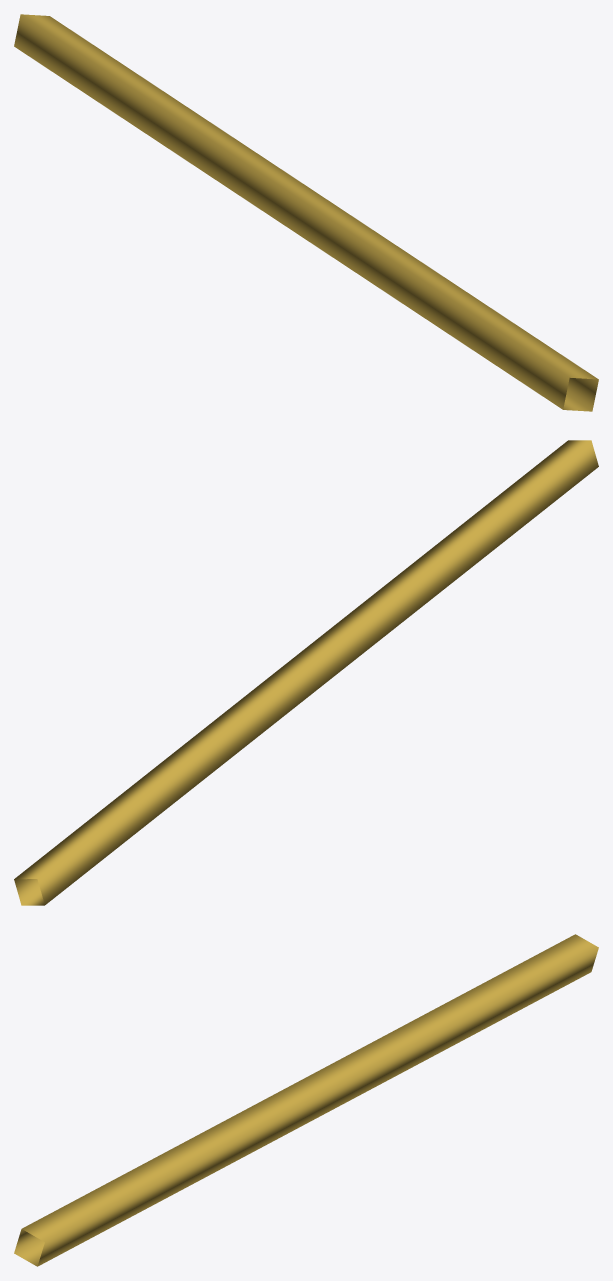
Rendered from cut stem.dae.
3 renders of one model, top to bottom at view 1: azimuth 30°, elevation 25°; view 2: azimuth 150°, elevation 25°; view 3: azimuth 330°, elevation 25°, orthographic. The views are drawn at different scales.
Parts seen in each view (by area): view 1: mesh0%root%0%; view 2: mesh0%root%0%; view 3: mesh0%root%0%.
Boxes of the visible parts, bbox=[...] form: mesh0%root%0%: bbox=[14, 14, 598, 411]; mesh0%root%0%: bbox=[14, 440, 598, 905]; mesh0%root%0%: bbox=[14, 934, 598, 1266].
Bounding box in the file's own units: 0.3954 × 0.5574 × 5.
